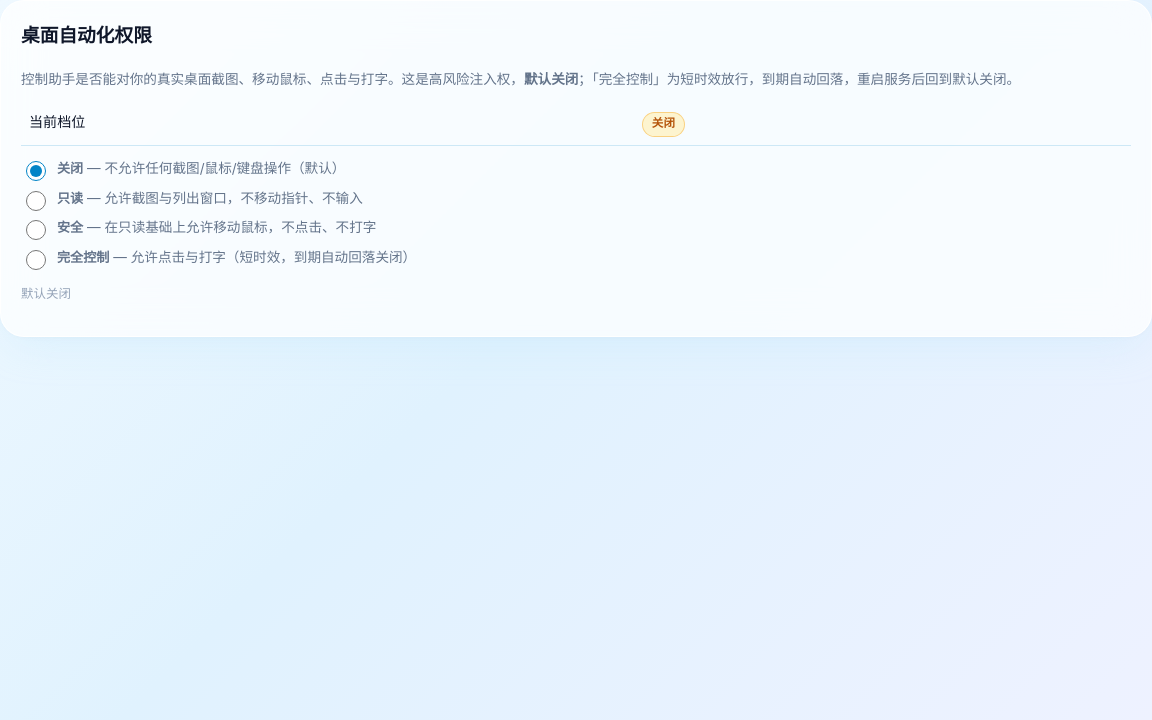
Test case: AutomationPermissionCard 关闭档 › 重复点已选中的档位给明确反馈且不发请求
The image size is (1152, 720).
Click the radio button with test id "automation-mode-off": coordinates (36, 171) [26,161,46,181]
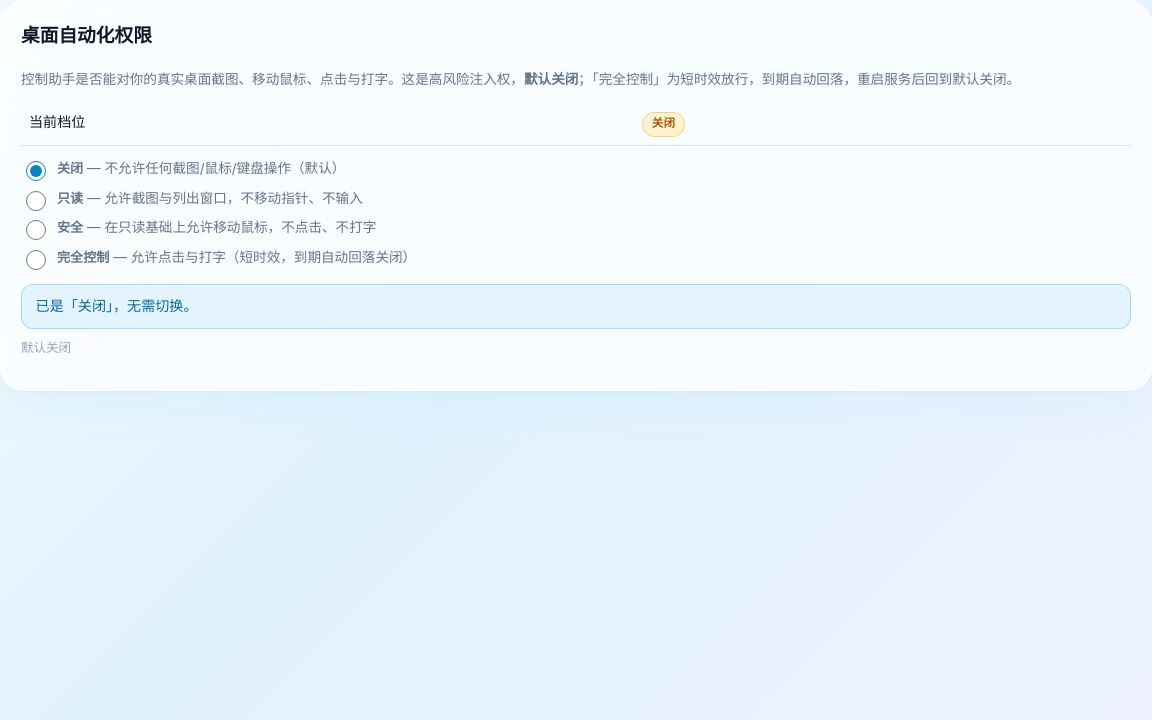
Result: the text with test id "automation-msg" shows "无需切换" at [36,297,198,314]
